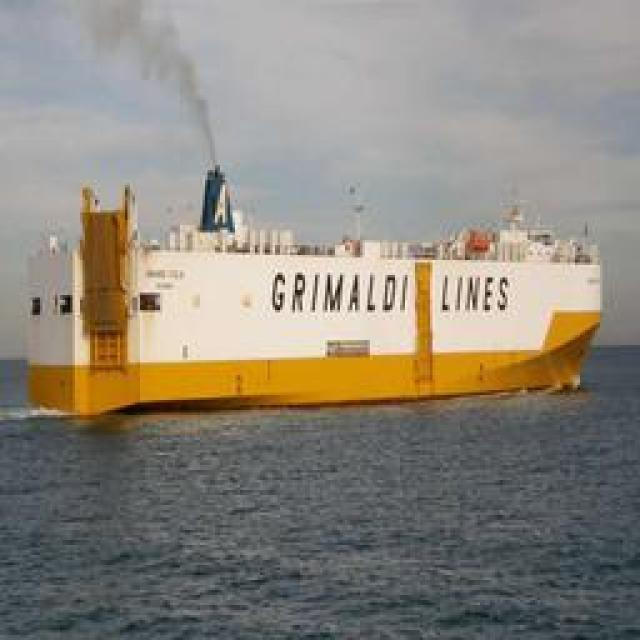CIV_Ship: (21, 114, 601, 412)
